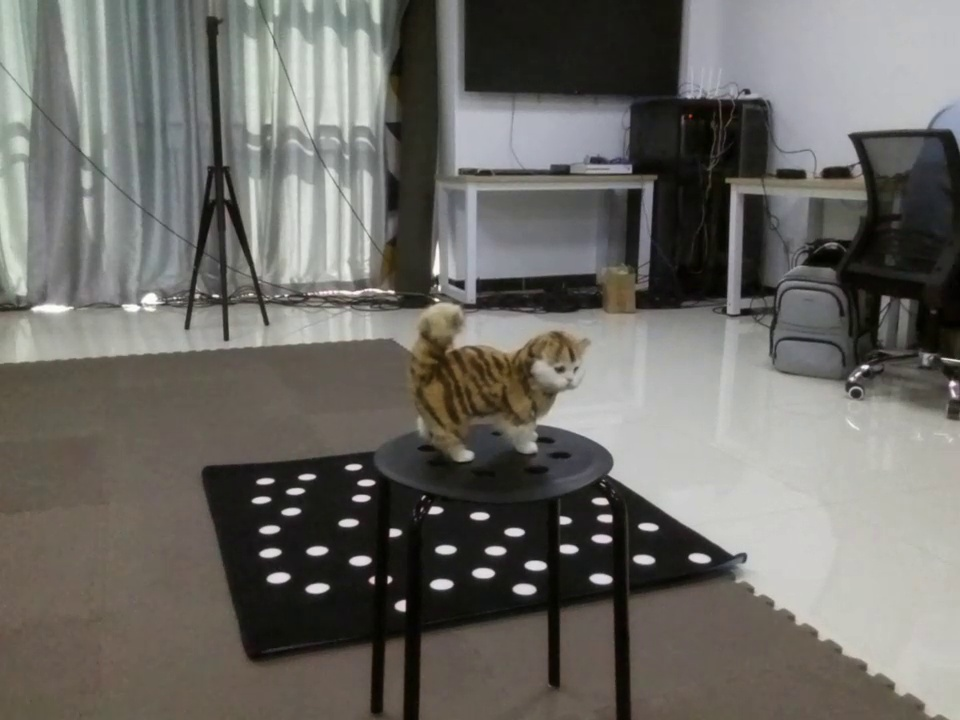cat: (392, 306, 599, 465)
